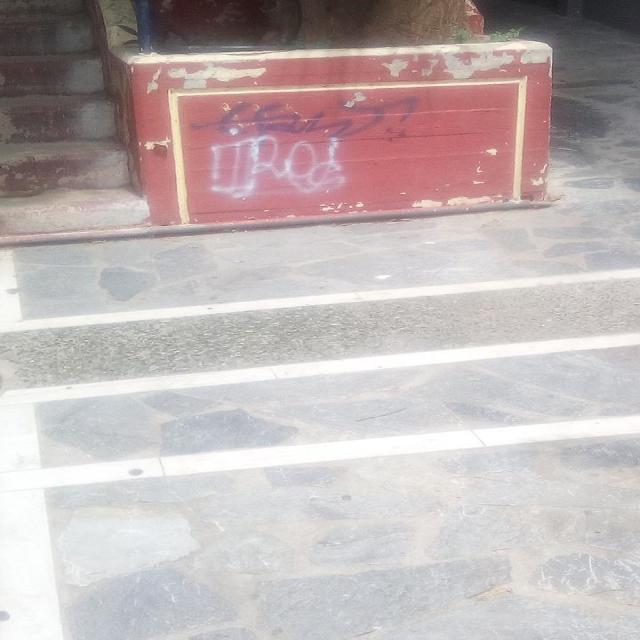nonspitting: (206, 134, 348, 196), (218, 98, 418, 140)
